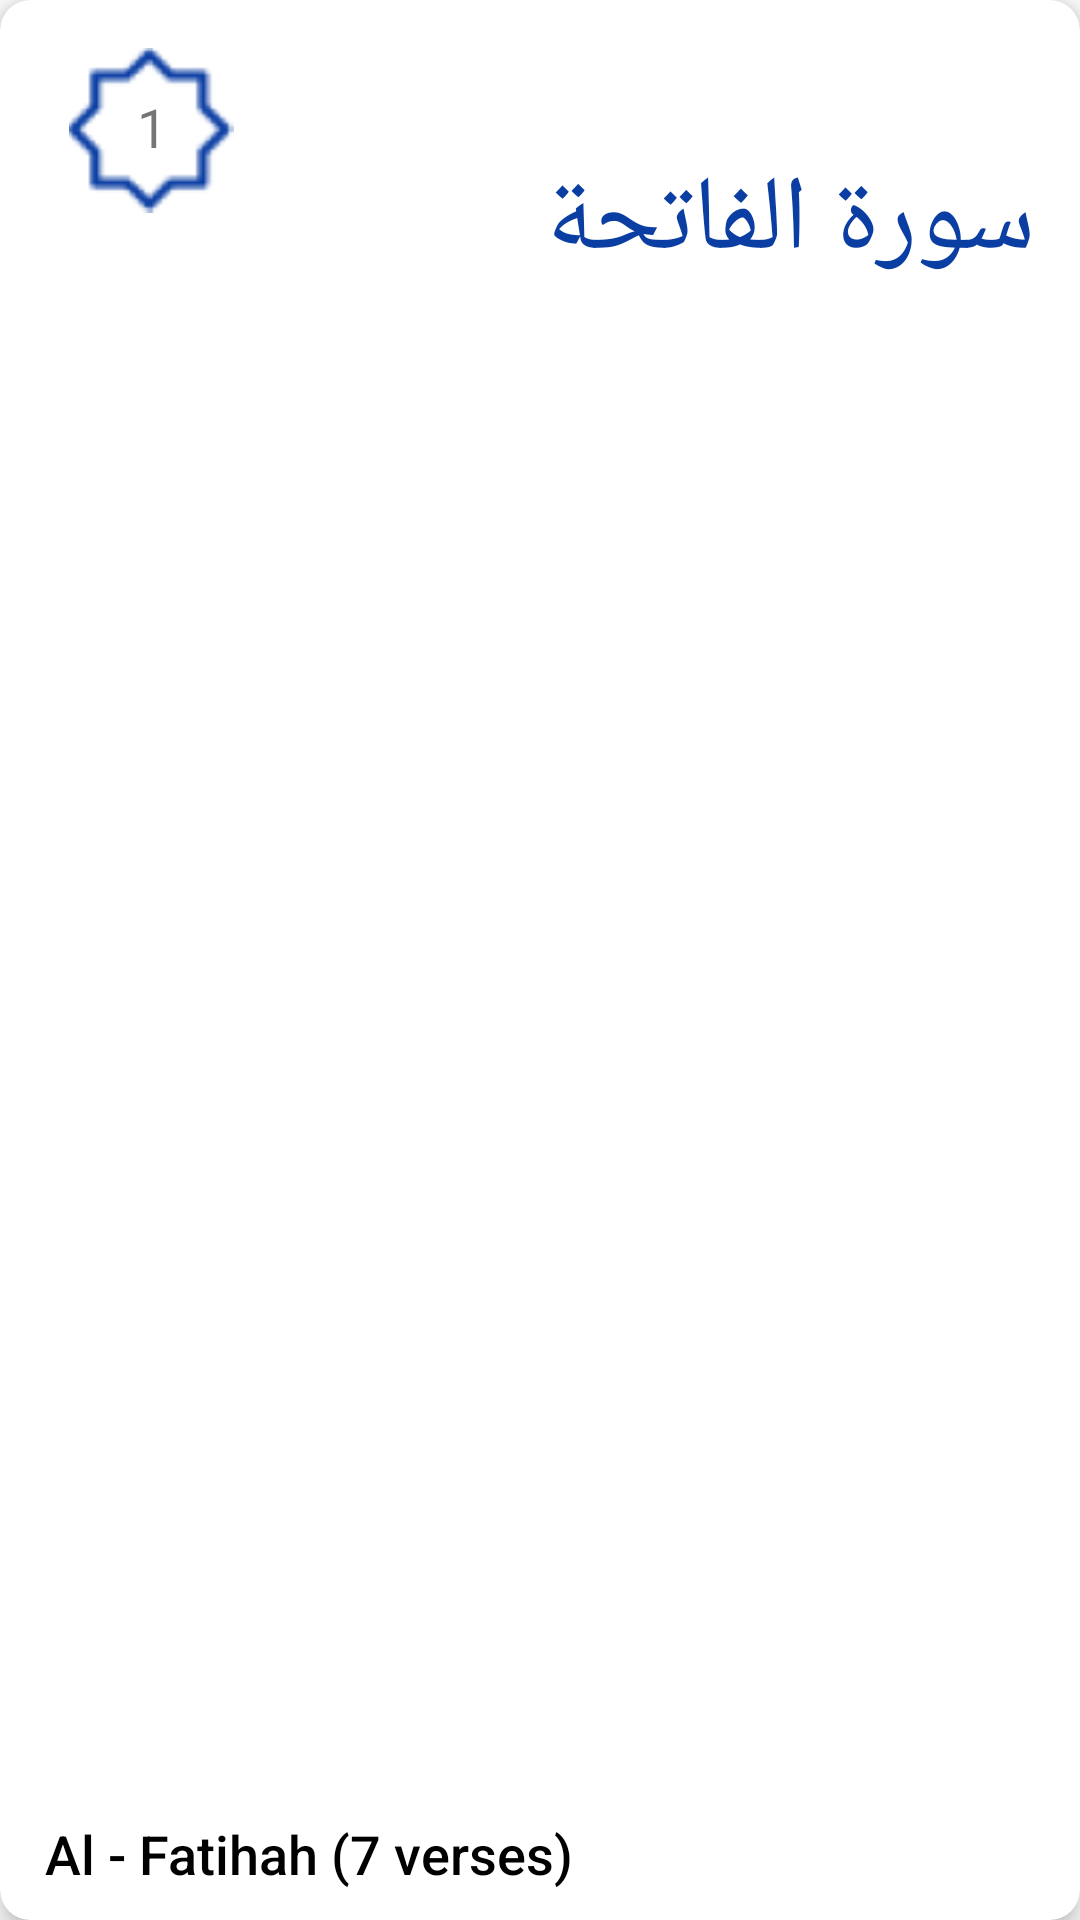

Icons on this 1080 x 1920 Android screen, each with its box as (x1, y1, x2, y2):
number circle: (69, 48, 234, 213)
